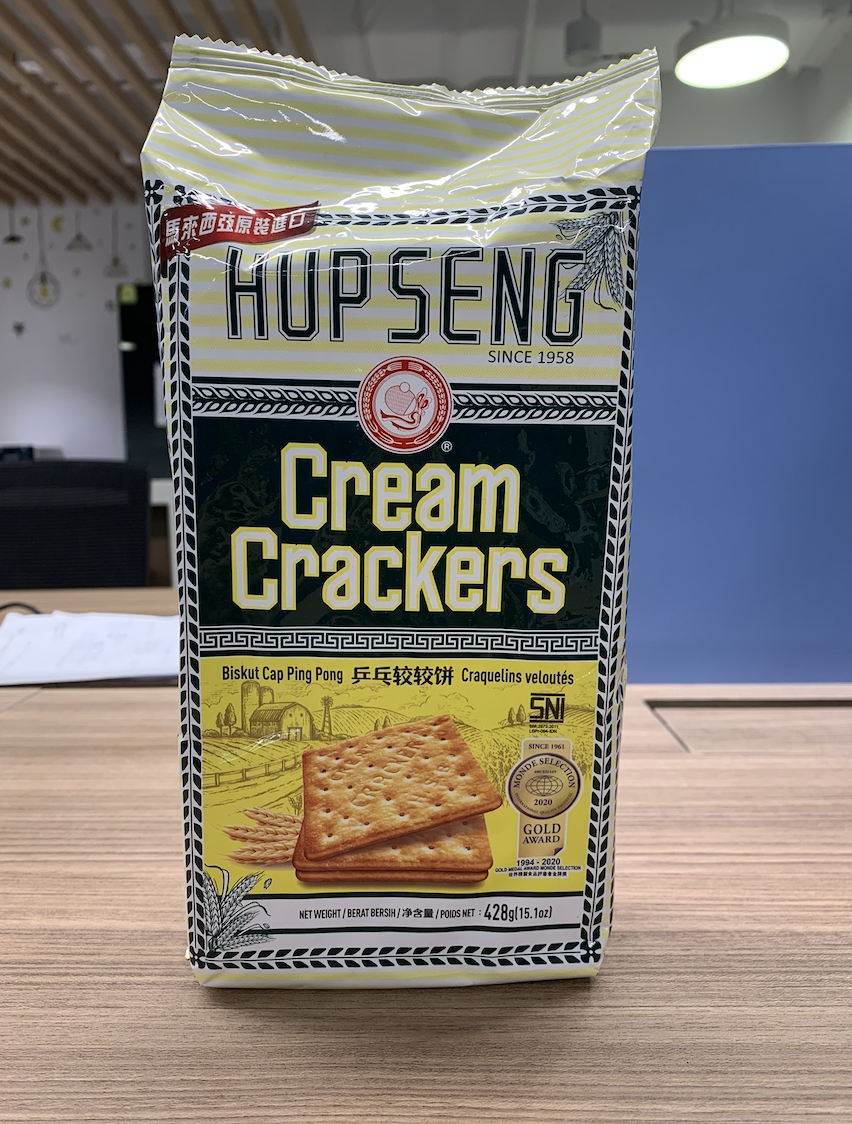crackers_450g: (151, 61, 614, 975)
